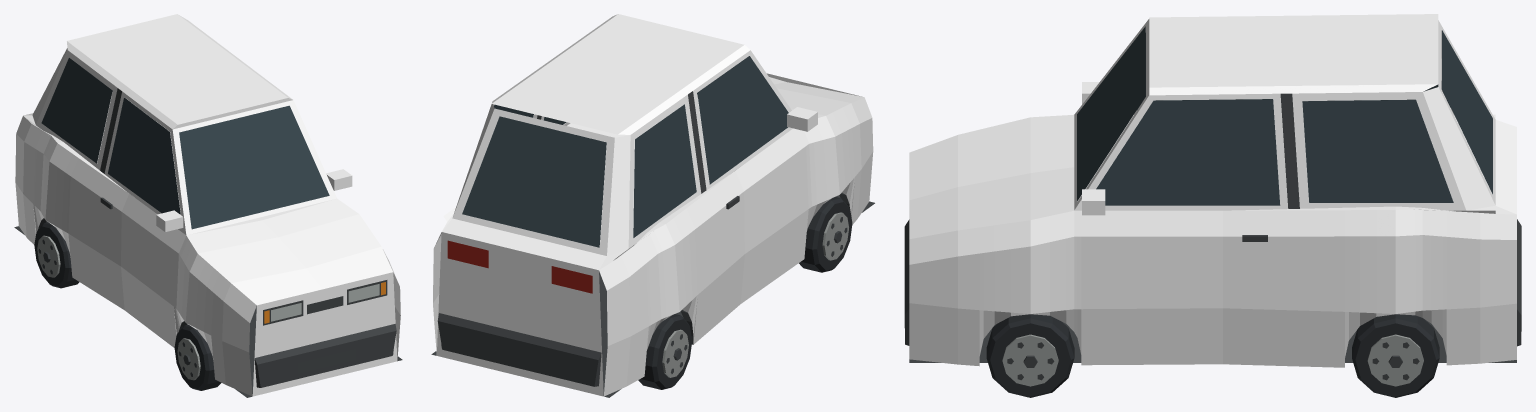
Rendered from hoshino_ibuki.glb.
The picture shows the model from 3 angles, left to right: view 1: azimuth 30°, elevation 25°; view 2: azimuth 150°, elevation 25°; view 3: azimuth 270°, elevation 25°; orthographic projection. The views are drawn at different scales.
Visible parts, largest first — view 1: hoshino_ibuki; view 2: hoshino_ibuki; view 3: hoshino_ibuki.
Part boxes in pixels (left/top/right/bottom): hoshino_ibuki: left=14, top=14, right=402, bottom=397; hoshino_ibuki: left=431, top=14, right=874, bottom=397; hoshino_ibuki: left=904, top=14, right=1521, bottom=397.
Size of the model in its own units: 1.44 by 1.66 by 3.16.
8 materials, 1 textured.
